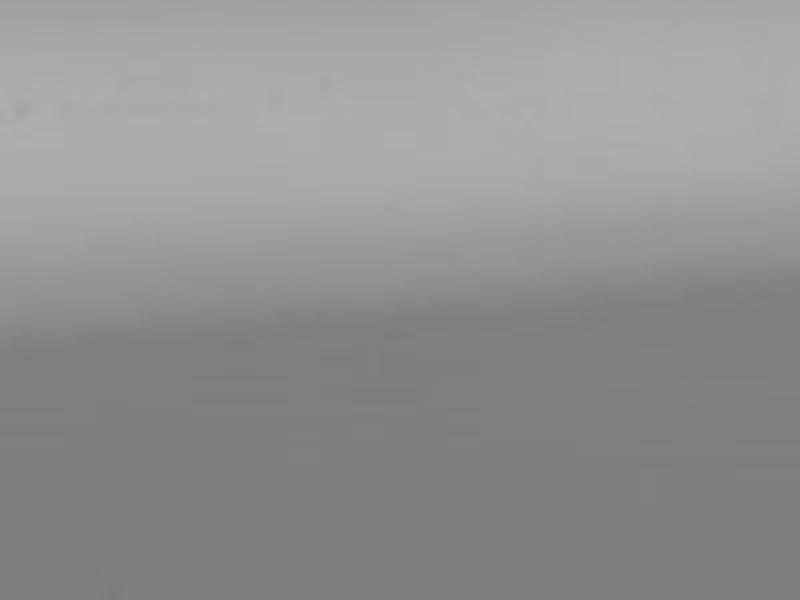defect: (316, 69, 333, 102), (13, 99, 35, 120)
